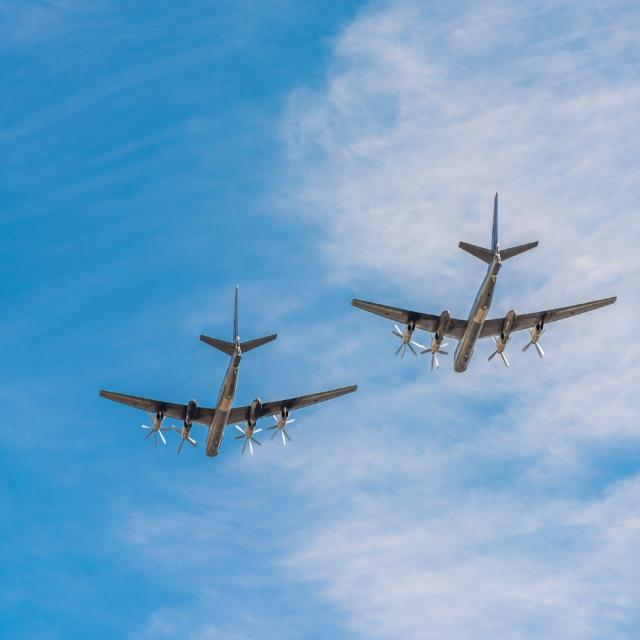MIL_Plane: (351, 190, 617, 374), (99, 285, 358, 459)
